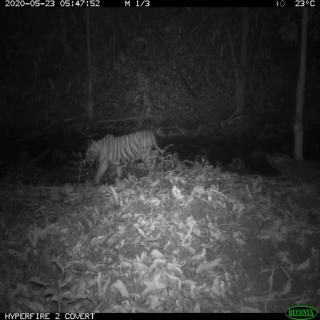Tiger: (74, 112, 170, 189)
